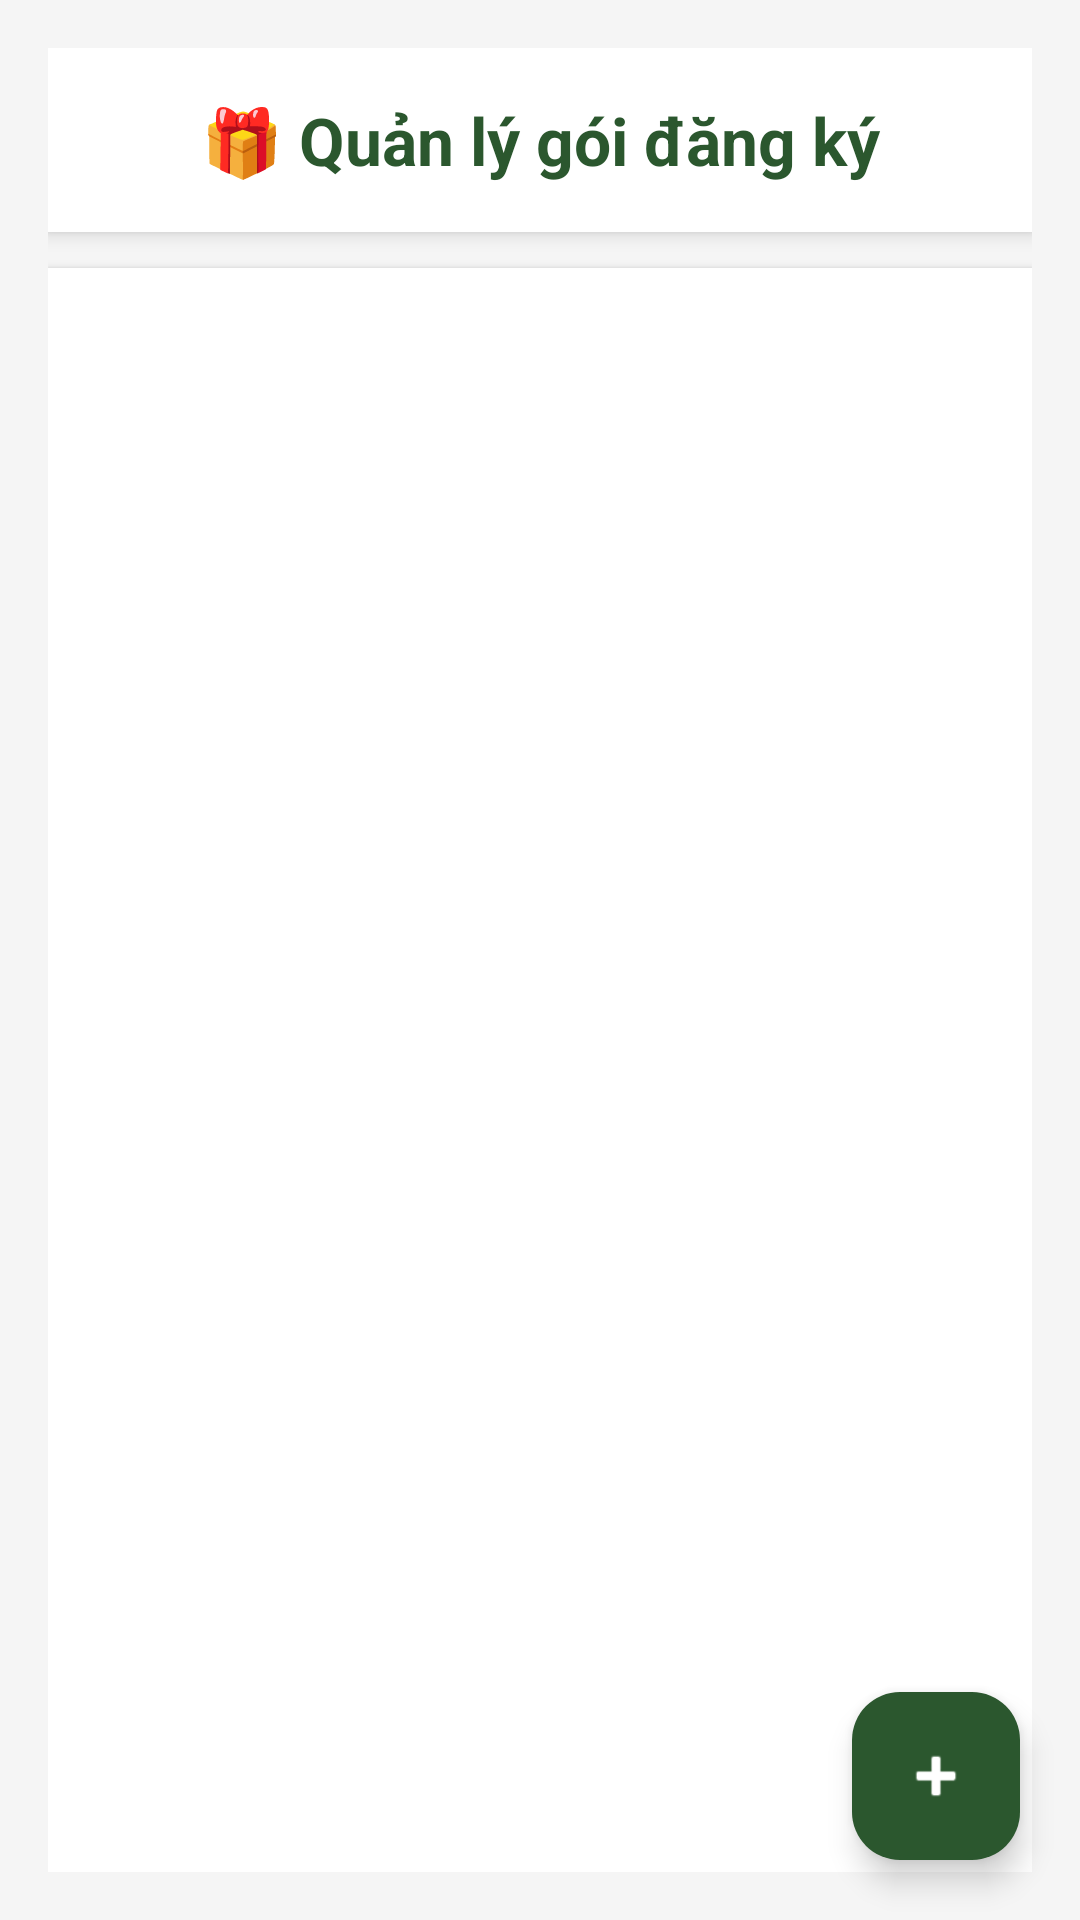

Icon click points for this 1080px×1920px phone screenshot, format (x,y):
Thêm gói: (936,1776)
